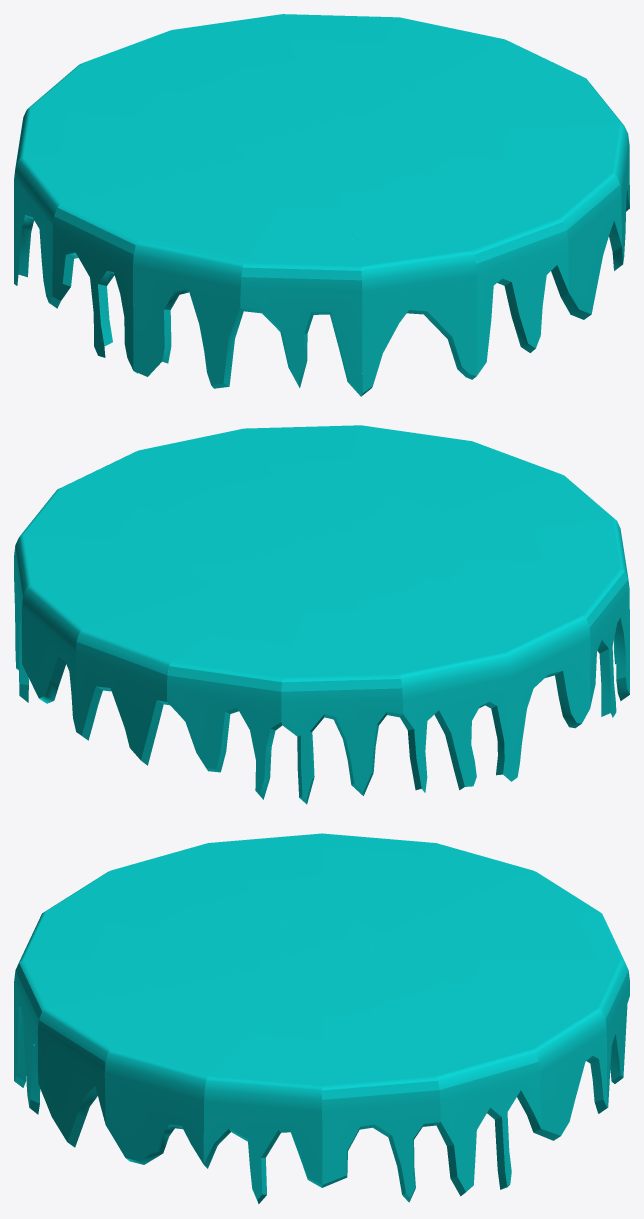
Rendered from Ara_Katman_3Y.fbx.
3 views of the same model, one above another, from view 1: azimuth 30°, elevation 25°; view 2: azimuth 150°, elevation 25°; view 3: azimuth 270°, elevation 25° (orthographic).
Visible parts, largest first — view 1: ara_krema12, ara_krema10, ara_krema11, ara_krema9, ara_krema13, ara_krema7, ara_krema14, ara_krema6, ara_krema, ara_krema5, ara_krema15, ara_krema1 (+4 smaller); view 2: ara_krema, ara_krema15, ara_krema8, ara_krema4, ara_krema14, ara_krema3, ara_krema13, ara_krema2, ara_krema12, ara_krema1, ara_krema11, ara_krema5 (+4 smaller); view 3: ara_krema5, ara_krema2, ara_krema6, ara_krema1, ara_krema7, ara_krema3, ara_krema9, ara_krema4, ara_krema10, ara_krema8, ara_krema11, ara_krema15 (+4 smaller).
Boxes of the visible parts, x1,y1,x2,y2 form: ara_krema12: (133,140,321,388); ara_krema10: (322,140,476,396); ara_krema11: (240,140,362,396); ara_krema9: (322,140,568,375); ara_krema13: (52,140,320,373); ara_krema7: (322,140,621,319); ara_krema14: (14,140,320,308); ara_krema6: (323,123,629,270); ara_krema: (15,107,319,166); ara_krema5: (323,76,623,139); ara_krema15: (28,62,320,139); ara_krema1: (322,39,582,139); ara_krema: (322,551,511,792); ara_krema15: (281,551,403,804); ara_krema8: (167,551,321,799); ara_krema4: (75,551,320,765); ara_krema14: (322,551,590,781); ara_krema3: (22,551,320,731); ara_krema13: (323,551,629,717); ara_krema2: (14,534,319,702); ara_krema12: (323,518,628,664); ara_krema1: (19,488,320,551); ara_krema11: (322,474,616,551); ara_krema5: (61,450,320,550); ara_krema5: (203,960,322,1203); ara_krema2: (322,959,540,1196); ara_krema6: (104,959,321,1164); ara_krema1: (322,960,440,1202); ara_krema7: (37,959,320,1147); ara_krema3: (301,959,607,1187); ara_krema9: (14,959,319,1114); ara_krema4: (324,959,629,1113); ara_krema10: (19,911,321,961); ara_krema8: (322,911,624,961); ara_krema11: (43,870,320,959); ara_krema15: (323,870,600,959).
Size of the model in its own units: 2.06 by 0.4886 by 2.06.
